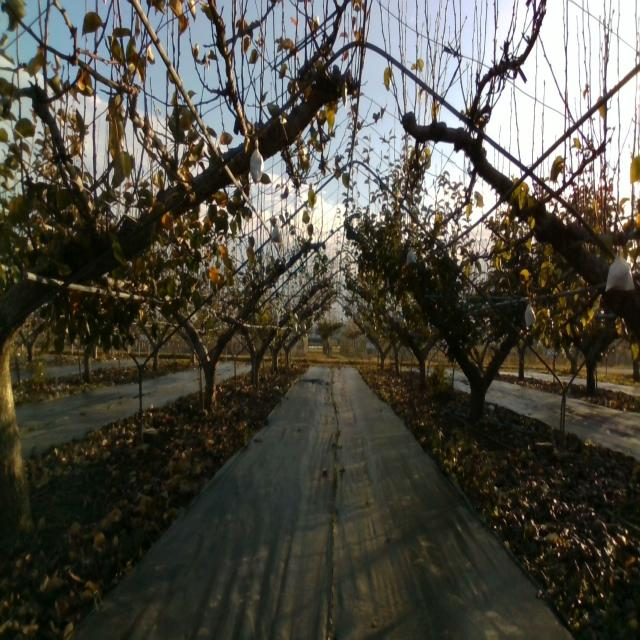pearbags: (604, 246, 636, 291), (250, 139, 264, 185), (524, 302, 536, 328), (270, 224, 284, 243)
